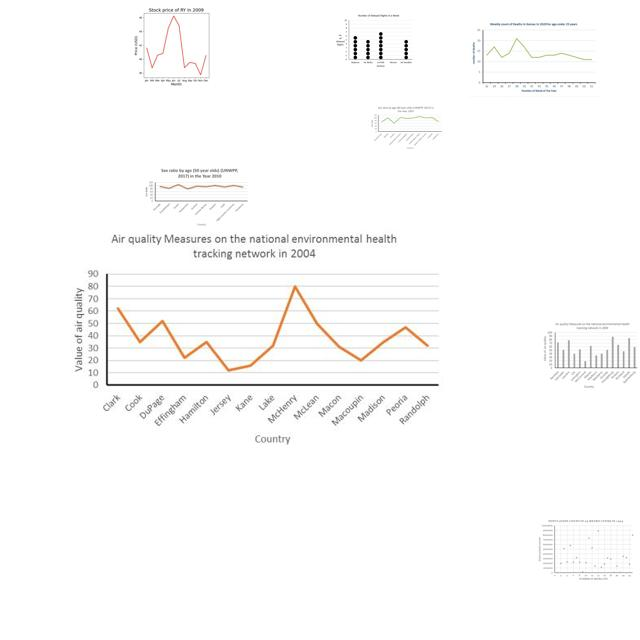Graph: (64, 228, 444, 455), (469, 20, 598, 97), (119, 3, 231, 87), (541, 320, 639, 390), (142, 166, 250, 227), (537, 519, 635, 582), (335, 13, 414, 68), (369, 105, 442, 150)
